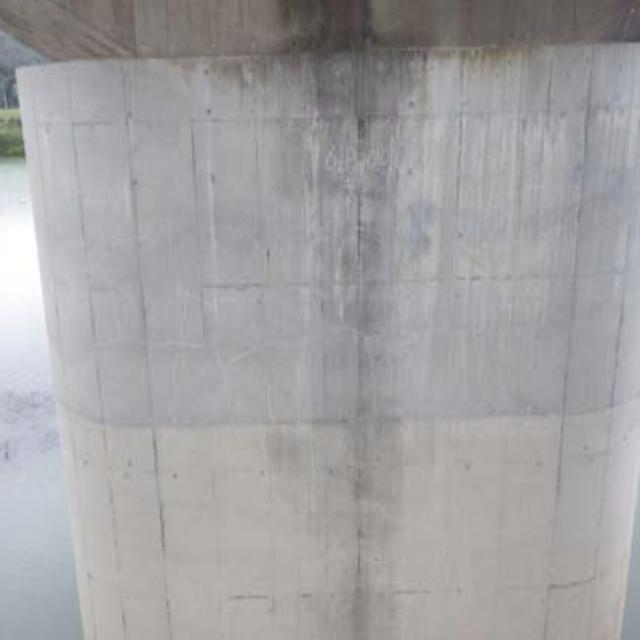leakage: (297, 21, 413, 356)
